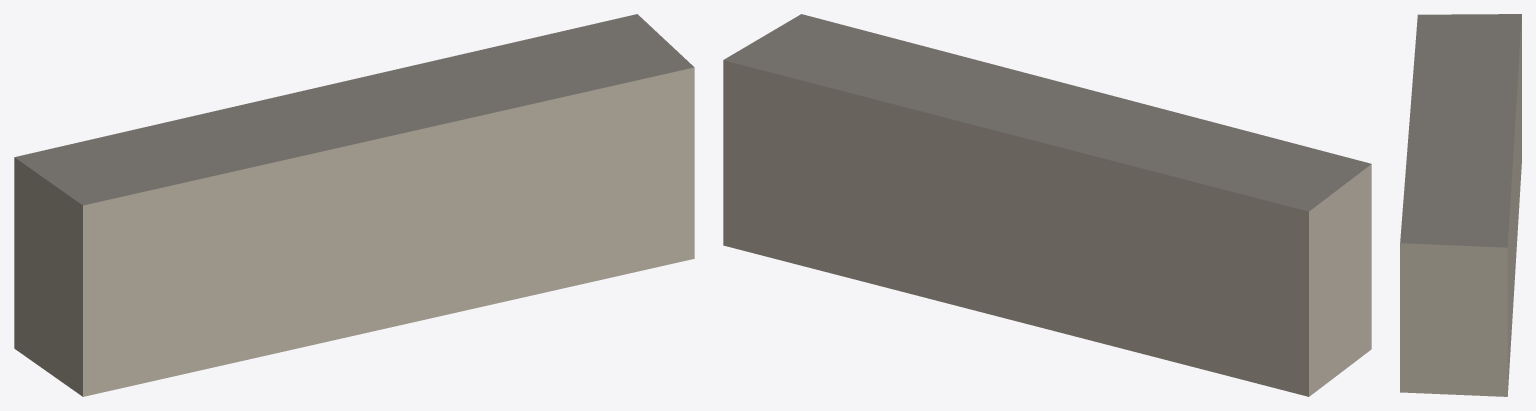
The picture shows the model from 3 angles, left to right: view 1: azimuth 30°, elevation 25°; view 2: azimuth 150°, elevation 25°; view 3: azimuth 270°, elevation 25°; orthographic projection. The views are drawn at different scales.
Visible parts, largest first — view 1: HP-w729793439; view 2: HP-w729793439; view 3: HP-w729793439.
Boxes of the visible parts, <box> form: HP-w729793439: <box>14,14,694,396</box>; HP-w729793439: <box>723,14,1371,396</box>; HP-w729793439: <box>1400,14,1521,396</box>.
Size of the model in its own units: 60.43 by 18 by 13.3.
